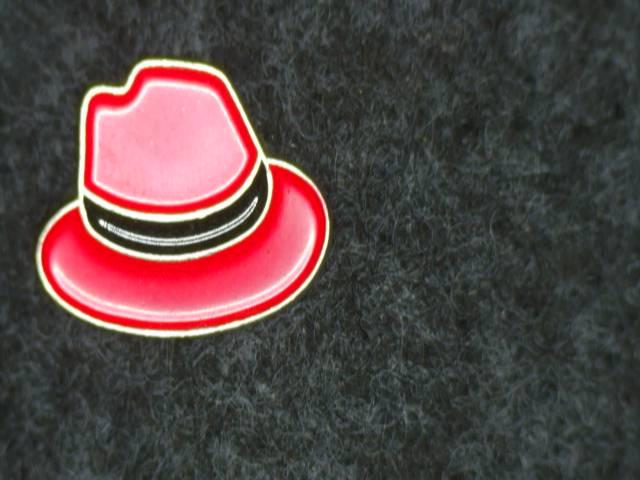Red-Hat: (16, 43, 365, 340)
